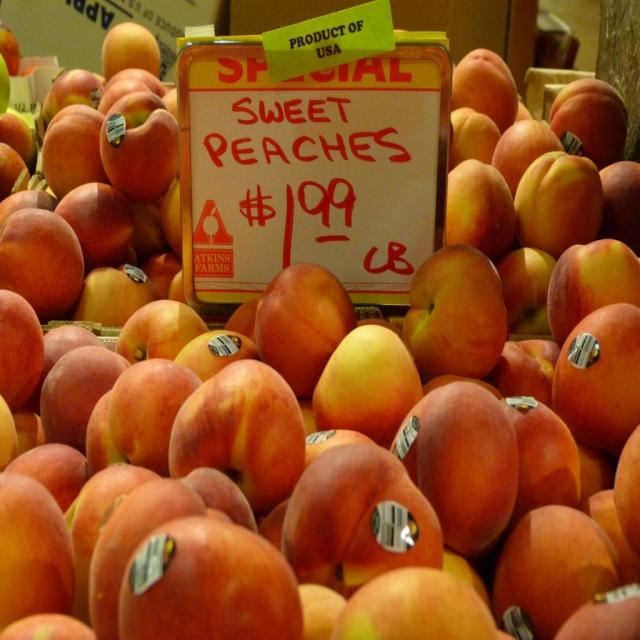Peach: (0, 20, 640, 639), (171, 359, 286, 509)
